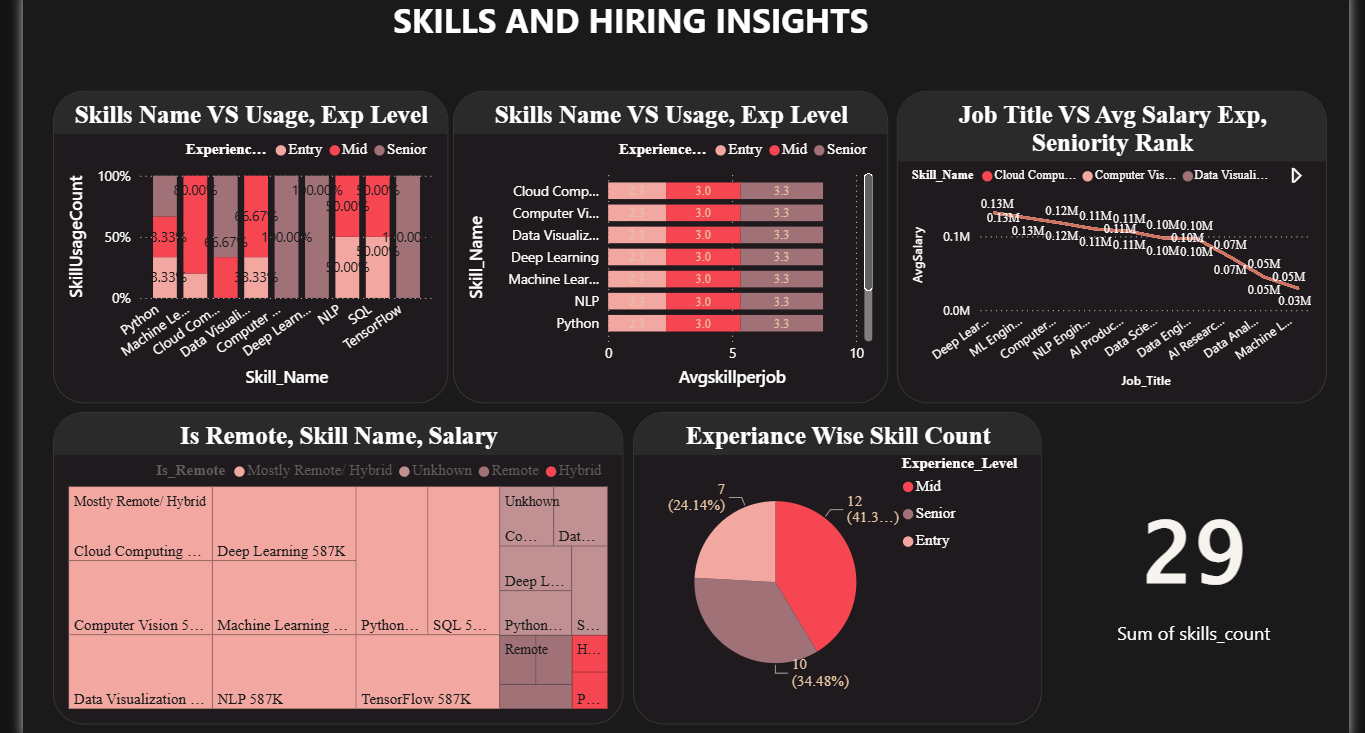

The page's visual inventory and layout, read from the dashboard file:
{"tool":"powerbi","page":{"name":"SKILLS AND HIRING INSIGHTS","canvas":[1280,720],"ordinal":3},"visuals":[{"type":"textbox","box":[352.3,0,545.3,79.6],"z":0},{"type":"hundredPercentStackedColumnChart","title":"Skills Name VS Usage, Exp Level","fields":{"Series":["Fact_Jobs.Experience_Level"],"Category":["Dim_Skills.Skill_Name"],"Y":["Dim_Skills.SkillUsageCount"]},"box":[29,95.3,381.2,301.6],"z":1000},{"type":"treemap","title":"Is Remote, Skill Name, Salary","fields":{"Group":["Fact_Jobs.Is_Remote"],"Details":["Dim_Skills.Skill_Name"],"Values":["Sum(Fact_Jobs.Salary_USD)"]},"box":[29,405.4,550.1,301.6],"z":2000},{"type":"cardVisual","title":"TOTAL JOBS","fields":{"Data":["Sum(Fact_Jobs.skills_count)"]},"box":[1002.6,405.4,255.8,301.6],"z":3000},{"type":"lineChart","title":"Job Title VS Avg Salary Exp, Seniority Rank","fields":{"Series":["Dim_Skills.Skill_Name"],"Category":["Fact_Jobs.Job_Title"],"Y":["Fact_Jobs.AvgSalary"]},"box":[843.3,95.3,415,301.6],"z":4000},{"type":"barChart","title":"Skills Name VS Usage, Exp Level","fields":{"Category":["Dim_Skills.Skill_Name"],"Series":["Fact_Jobs.Experience_Level"],"Y":["Fact_Job_Skills.Avgskillperjob"]},"box":[415,95.3,419.8,301.6],"z":5000},{"type":"pieChart","title":"Experiance Wise Skill Count","fields":{"Category":["Fact_Jobs.Experience_Level"],"Y":["Dim_Skills.SkillUsageCount"]},"box":[588.7,405.4,394.5,301.6],"z":6000}]}

Visuals, with their boxes on the page's 1280x720 design canvas (x1, y1, x2, y2). These are canvas units, not pixel positions in the 1365x733 screenshot, which may show the page scaled, cropped or inside an application window:
textbox: [left=352, top=0, right=898, bottom=80]
"Skills Name VS Usage, Exp Level" hundredPercentStackedColumnChart: [left=29, top=95, right=410, bottom=397]
"Is Remote, Skill Name, Salary" treemap: [left=29, top=405, right=579, bottom=707]
"TOTAL JOBS" cardVisual: [left=1003, top=405, right=1258, bottom=707]
"Job Title VS Avg Salary Exp, Seniority Rank" lineChart: [left=843, top=95, right=1258, bottom=397]
"Skills Name VS Usage, Exp Level" barChart: [left=415, top=95, right=835, bottom=397]
"Experiance Wise Skill Count" pieChart: [left=589, top=405, right=983, bottom=707]
